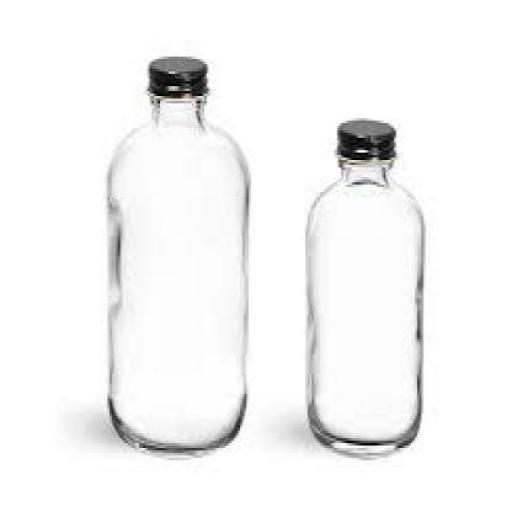glass: (107, 89, 243, 448), (305, 150, 420, 453)
metal: (335, 116, 394, 158), (148, 56, 206, 98)
